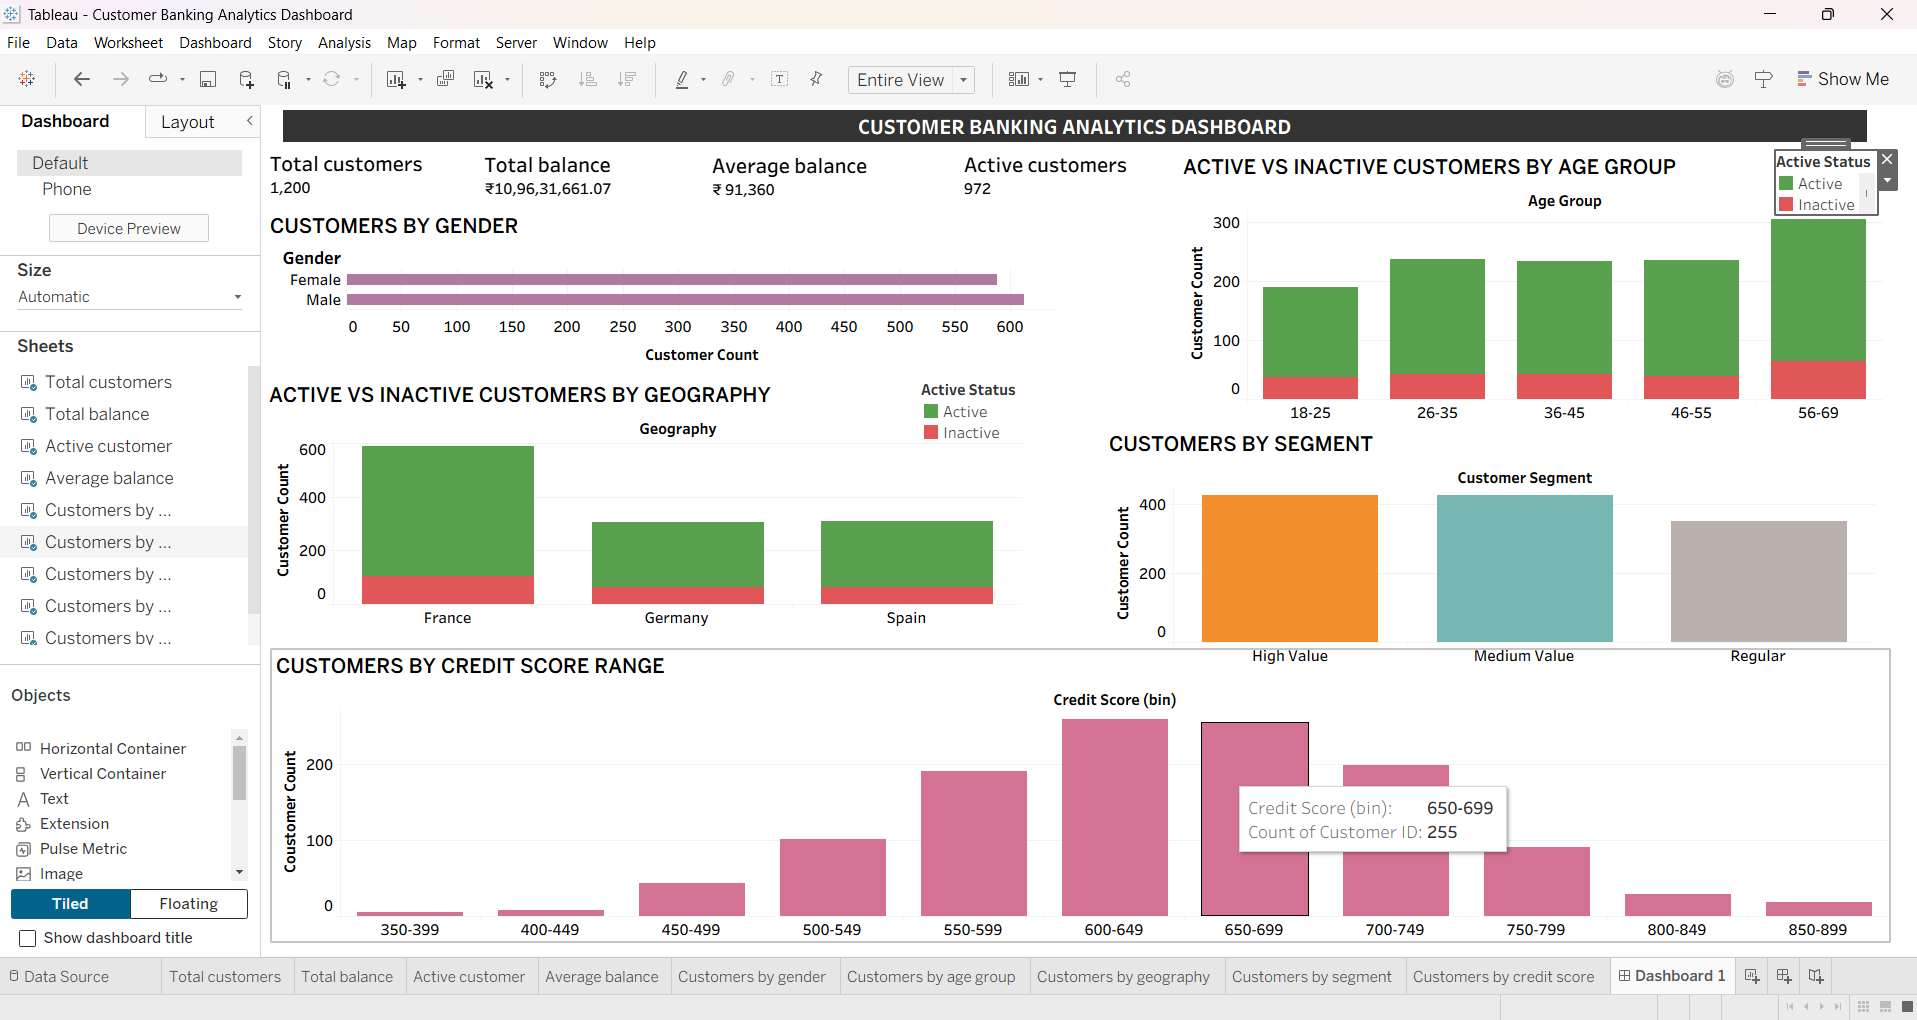

The page's visual inventory and layout, read from the dashboard file:
{"tool":"tableau","page":{"name":"Dashboard 1","canvas":[1000,1000],"units":"permille","ordinal":0},"visuals":[{"type":"dashboard-object","box":[13.5,5.9,956.1,37.6]},{"type":"worksheet","title":"Total customers","mark":"Automatic","box":[2.9,51.7,118.3,67]},{"type":"worksheet","title":"Total balance","mark":"Automatic","box":[132.4,52.9,131.8,64.6]},{"type":"worksheet","title":"Average balance","mark":"Automatic","box":[269.5,54.1,151.1,63.5]},{"type":"worksheet","title":"Active customer","mark":"Automatic","box":[421.8,54.1,130.1,64.6]},{"type":"worksheet","title":"Customers by age group","mark":"Automatic","rows":["Customer_ID"],"cols":["Age_Group"],"box":[554.2,54.1,424.7,320.8]},{"type":"legend","title":"Customers by age group","param":"[federated.0wl0508077zo4o1641g620q7kh79].[none:Active_Status:nk]","box":[903.3,54.1,63.3,75.2]},{"type":"worksheet","title":"Customers by gender","mark":"Automatic","rows":["Gender"],"cols":["Customer_ID"],"box":[2.9,123.4,655.5,296.1]},{"type":"worksheet","title":"Customers by geography","mark":"Automatic","rows":["Customer_ID"],"cols":["Geography"],"box":[2.3,322,456.9,293.8]},{"type":"legend","title":"Customers by geography","param":"[federated.0wl0508077zo4o1641g620q7kh79].[none:Active_Status:nk]","box":[370.8,322,84.9,77.6]},{"type":"worksheet","title":"Customers by segment","mark":"Automatic","rows":["Customer_ID"],"cols":["Customer_Segment"],"box":[509.1,379.6,465.1,298.5]},{"type":"worksheet","title":"Customers by credit score","mark":"Automatic","rows":["Customer_ID"],"cols":["Credit Score (bin)"],"box":[6.4,640.4,976,341.9]}]}

Visuals, with their boxes on the dashboard's canvas, which has no fixed pixel size, in thousandths of its width and height (x1, y1, x2, y2). These are canvas units, not pixel positions in the 1917x1020 screenshot, which may show the page scaled, cropped or inside an application window:
dashboard-object: <region>14, 6, 970, 44</region>
"Total customers" worksheet: <region>3, 52, 121, 119</region>
"Total balance" worksheet: <region>132, 53, 264, 118</region>
"Average balance" worksheet: <region>270, 54, 421, 118</region>
"Active customer" worksheet: <region>422, 54, 552, 119</region>
"Customers by age group" worksheet: <region>554, 54, 979, 375</region>
"Customers by age group" legend: <region>903, 54, 967, 129</region>
"Customers by gender" worksheet: <region>3, 123, 658, 420</region>
"Customers by geography" worksheet: <region>2, 322, 459, 616</region>
"Customers by geography" legend: <region>371, 322, 456, 400</region>
"Customers by segment" worksheet: <region>509, 380, 974, 678</region>
"Customers by credit score" worksheet: <region>6, 640, 982, 982</region>
